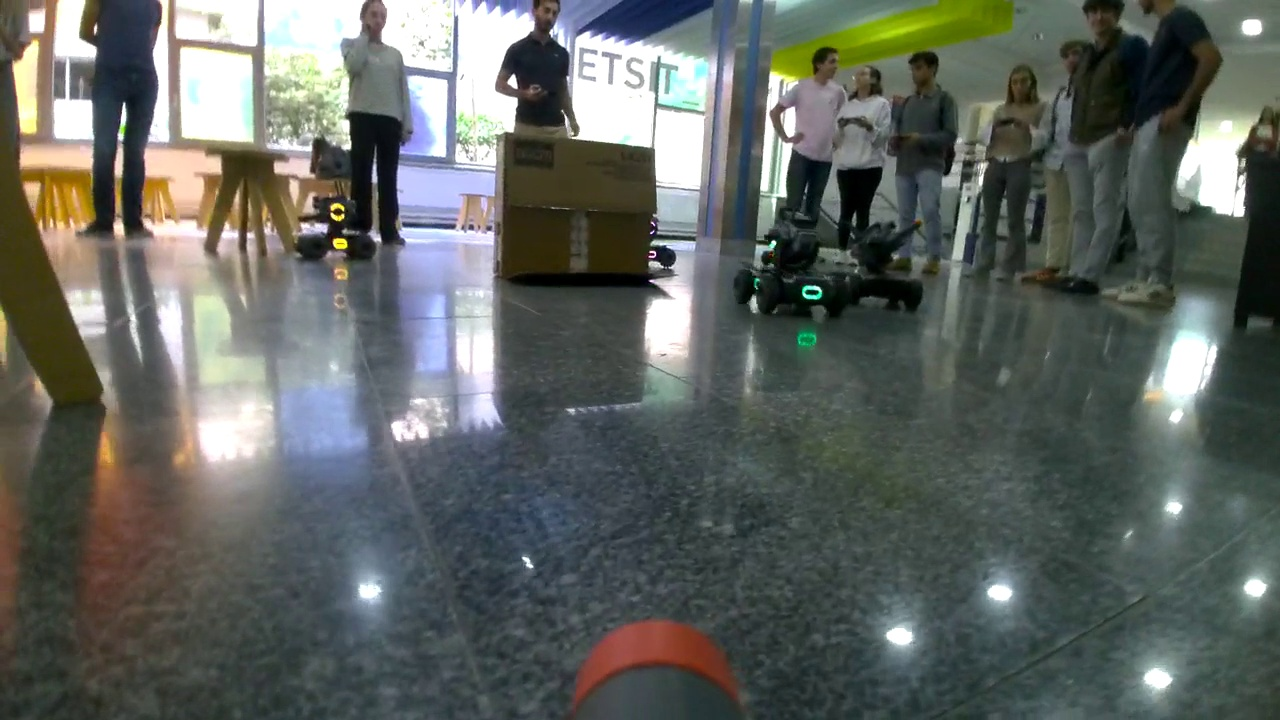robot: (740, 207, 842, 318), (841, 209, 929, 314), (290, 189, 378, 261), (649, 215, 681, 270)
